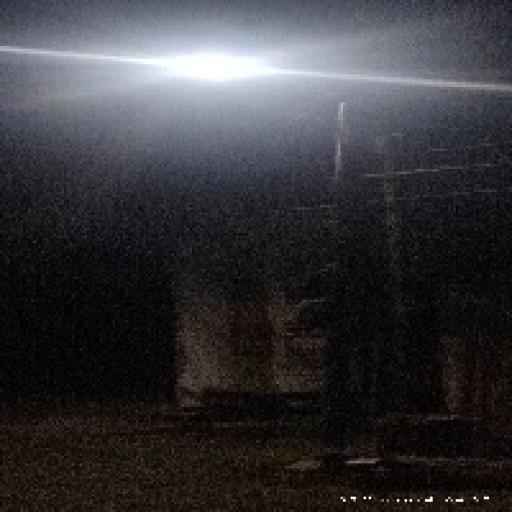Working: (147, 42, 282, 98)
